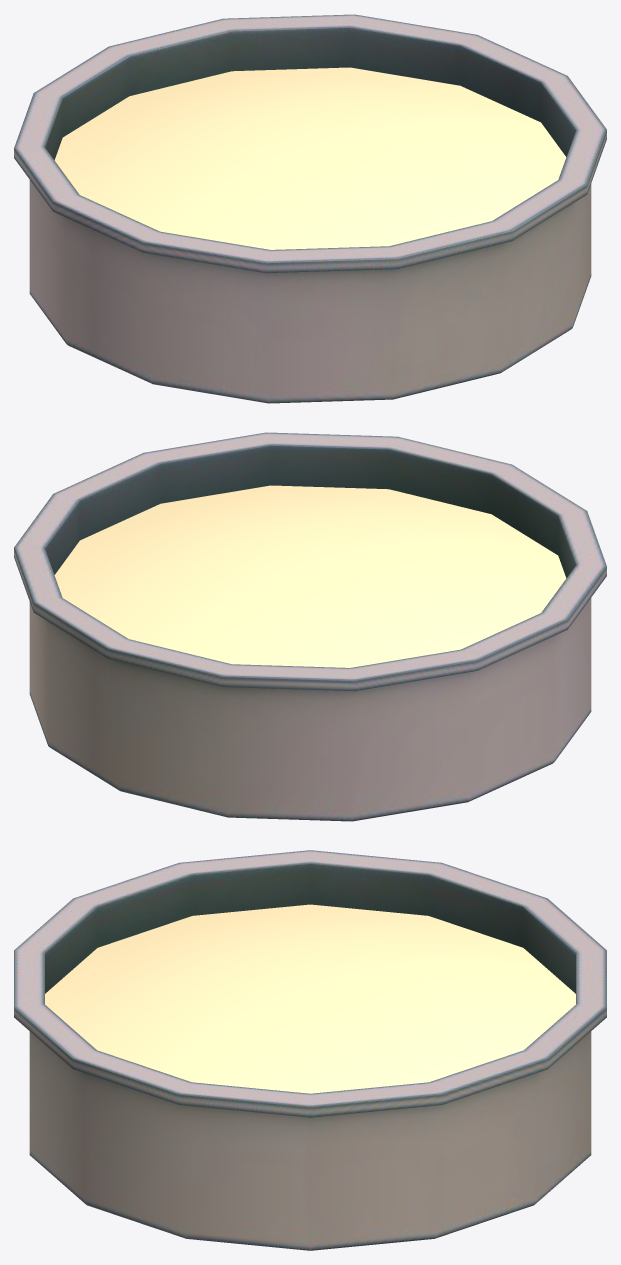
File: bakingTinDough.gltf
3 views of the same model, one above another, from view 1: azimuth 30°, elevation 25°; view 2: azimuth 150°, elevation 25°; view 3: azimuth 270°, elevation 25° (orthographic). The views are drawn at different scales.
Visible parts, largest first — view 1: BakingTin, Cylinder; view 2: BakingTin, Cylinder; view 3: BakingTin, Cylinder.
Boxes of the visible parts, left/top/right/bottom form: BakingTin: left=14, top=14, right=606, bottom=403; Cylinder: left=54, top=67, right=566, bottom=249; BakingTin: left=14, top=432, right=606, bottom=821; Cylinder: left=54, top=485, right=566, bottom=667; BakingTin: left=14, top=850, right=606, bottom=1250; Cylinder: left=45, top=904, right=575, bottom=1093.
Bounding box in the file's own units: 0.4193 × 0.1154 × 0.4088.
Materials: 2 (2 with a texture image).
